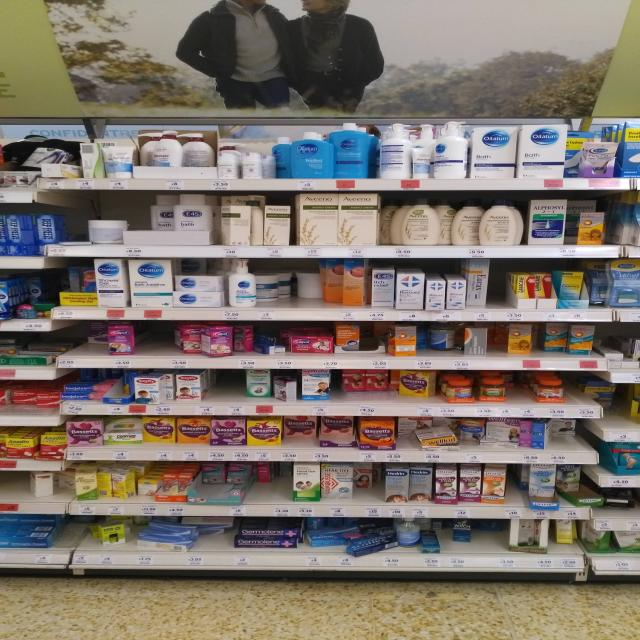unorganised: (341, 532, 405, 561), (452, 200, 483, 246), (220, 204, 251, 246), (343, 257, 368, 309), (484, 415, 522, 449), (142, 523, 199, 545), (397, 368, 438, 398), (413, 425, 460, 451), (147, 192, 177, 232), (251, 270, 290, 299), (468, 257, 488, 310), (202, 323, 233, 357), (242, 366, 273, 398), (11, 389, 60, 408), (555, 462, 584, 494), (297, 269, 325, 302), (281, 416, 319, 440), (505, 325, 536, 353), (325, 258, 342, 306), (571, 323, 597, 353), (427, 323, 457, 349), (227, 459, 254, 486), (255, 333, 286, 356), (98, 523, 129, 546), (274, 376, 300, 403), (200, 458, 227, 484), (29, 472, 54, 500), (551, 416, 584, 437), (555, 516, 576, 549), (543, 321, 566, 351), (110, 471, 136, 497), (262, 151, 289, 176), (366, 371, 393, 395), (451, 516, 475, 543), (351, 463, 374, 491), (71, 267, 95, 292), (343, 369, 365, 393), (253, 462, 273, 483)
